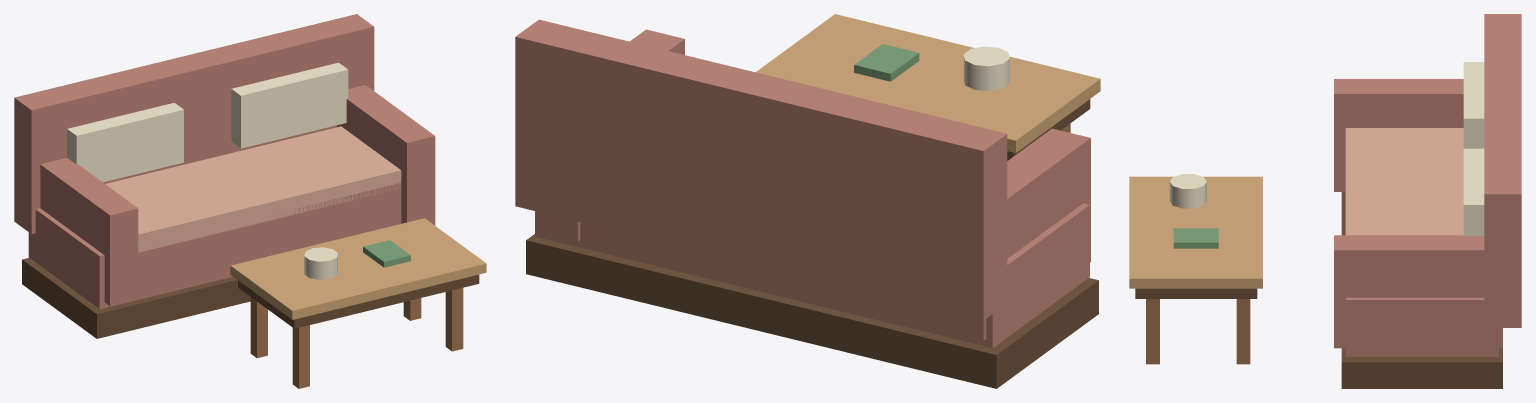
The model's file is lounge-sofa-table.glb.
The picture shows the model from 3 angles, left to right: view 1: azimuth 30°, elevation 25°; view 2: azimuth 150°, elevation 25°; view 3: azimuth 270°, elevation 25°; orthographic projection. The views are drawn at different scales.
Parts seen in each view (by area): view 1: lounge-sofa-table_cloth, lounge-sofa-table_clothLight, lounge-sofa-table_cream, lounge-sofa-table_woodLight, lounge-sofa-table_woodDark, lounge-sofa-table_wood, lounge-sofa-table_bookGreen; view 2: lounge-sofa-table_cloth, lounge-sofa-table_woodDark, lounge-sofa-table_woodLight, lounge-sofa-table_cream, lounge-sofa-table_bookGreen; view 3: lounge-sofa-table_cloth, lounge-sofa-table_woodLight, lounge-sofa-table_clothLight, lounge-sofa-table_woodDark, lounge-sofa-table_cream, lounge-sofa-table_wood, lounge-sofa-table_bookGreen.
Part boxes in pixels (x1,y1,x2,y2): lounge-sofa-table_cloth: [14, 14, 435, 308]; lounge-sofa-table_clothLight: [105, 126, 401, 252]; lounge-sofa-table_cream: [67, 62, 348, 279]; lounge-sofa-table_woodLight: [230, 218, 486, 319]; lounge-sofa-table_woodDark: [22, 257, 479, 338]; lounge-sofa-table_wood: [250, 288, 463, 388]; lounge-sofa-table_bookGreen: [363, 240, 410, 267]; lounge-sofa-table_cloth: [515, 19, 1090, 348]; lounge-sofa-table_woodDark: [526, 99, 1098, 388]; lounge-sofa-table_woodLight: [756, 14, 1100, 152]; lounge-sofa-table_cream: [963, 46, 1009, 90]; lounge-sofa-table_bookGreen: [854, 44, 919, 81]; lounge-sofa-table_cloth: [1334, 14, 1521, 356]; lounge-sofa-table_woodLight: [1129, 176, 1262, 288]; lounge-sofa-table_clothLight: [1345, 128, 1463, 235]; lounge-sofa-table_woodDark: [1135, 192, 1502, 388]; lounge-sofa-table_cream: [1169, 62, 1484, 236]; lounge-sofa-table_wood: [1146, 299, 1250, 364]; lounge-sofa-table_bookGreen: [1173, 228, 1218, 248].
Size of the model in its own units: 2.18 by 1.15 by 2.
